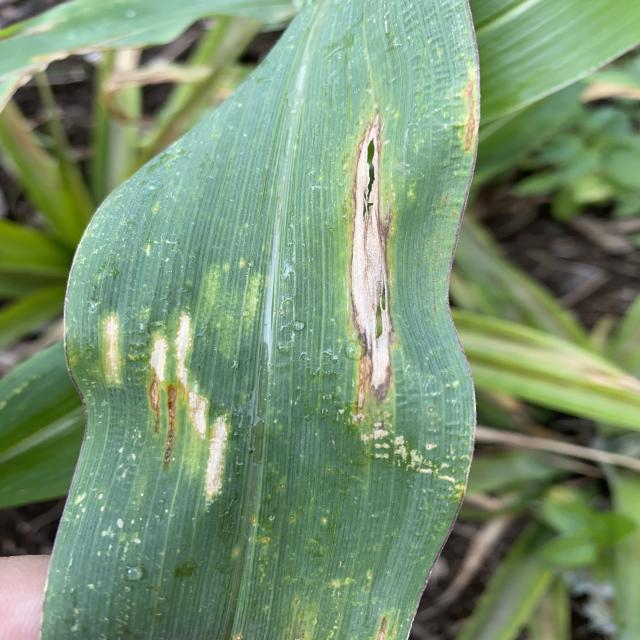Corn_Leaf_Blight: (53, 0, 491, 640)
